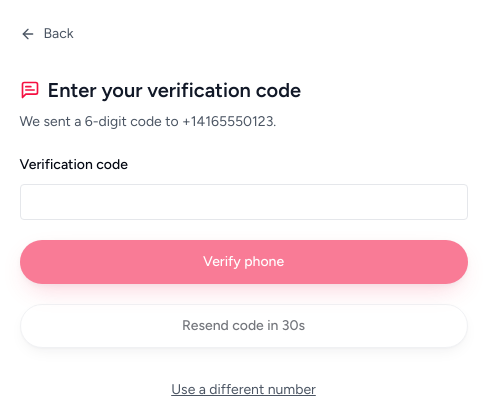
Test: PhoneOtpChallenge › does not turn an email-to-phone recovery typo into a new registration
The image size is (489, 413).
In the field labelled "Verification code": (244, 202) [20, 184, 468, 220], type "123456"
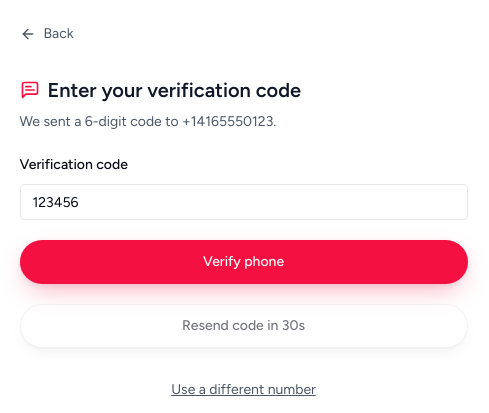
Click the button "Verify phone": (244, 262) [20, 240, 468, 284]
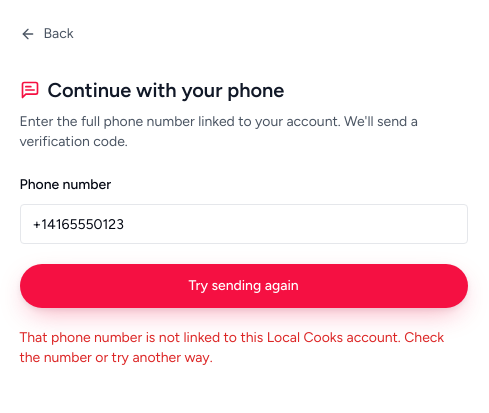
Expected: the message shows "not linked to this Local Cooks account", [20, 329, 444, 366]
